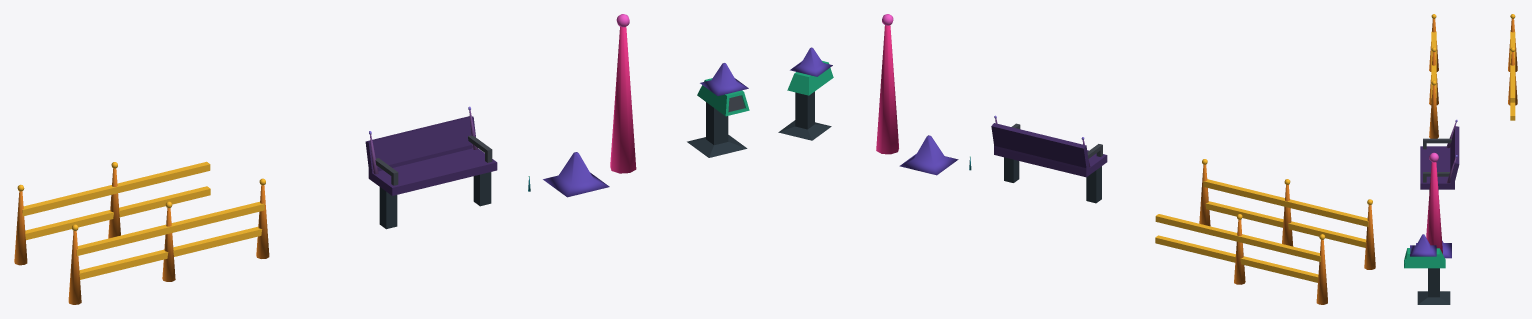
Rendered from props.fbx.
The picture shows the model from 3 angles, left to right: view 1: azimuth 30°, elevation 25°; view 2: azimuth 150°, elevation 25°; view 3: azimuth 270°, elevation 25°; orthographic projection. The views are drawn at different scales.
Visible parts, largest first — view 1: Wand Bench, Full Fence, Partial Fence, Wizard Hat Mailbox, Wand Lamp, Wizard Hat.001; view 2: Wand Bench, Full Fence, Partial Fence, Wizard Hat Mailbox, Wand Lamp, Wizard Hat.001; view 3: Wand Bench, Wizard Hat Mailbox, Wand Lamp, Full Fence, Partial Fence, Wizard Hat.001.
Boxes of the visible parts, x1,y1,x2,y2 form: Wand Bench: (365,106,497,229); Full Fence: (68,178,269,304); Partial Fence: (14,161,210,265); Wizard Hat Mailbox: (687,63,749,157); Wand Lamp: (610,14,636,173); Wizard Hat.001: (543,152,609,197); Wand Bench: (991,115,1107,203); Full Fence: (1199,159,1375,269); Partial Fence: (1155,214,1327,304); Wizard Hat Mailbox: (778,47,833,140); Wand Lamp: (876,14,898,154); Wizard Hat.001: (899,135,958,175); Wand Bench: (1420,119,1459,191); Wizard Hat Mailbox: (1404,234,1450,304); Wand Lamp: (1426,152,1442,253); Full Fence: (1429,14,1438,138); Partial Fence: (1508,14,1517,120); Wizard Hat.001: (1416,240,1451,258).
Bounding box in the file's own units: 577 × 2843 × 640.
